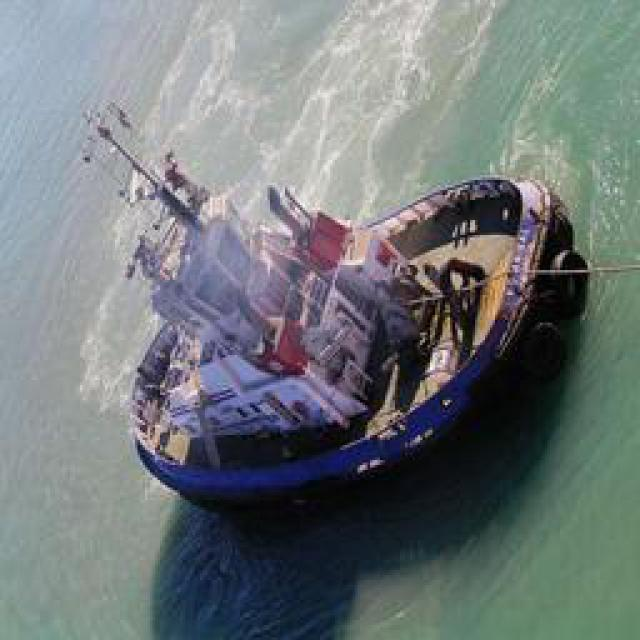Ship: (56, 83, 596, 542)
